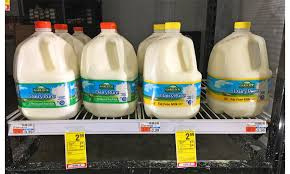milk: (17, 21, 81, 116), (144, 21, 202, 116), (212, 21, 270, 116), (85, 22, 139, 110), (136, 19, 165, 46), (55, 24, 85, 43)
